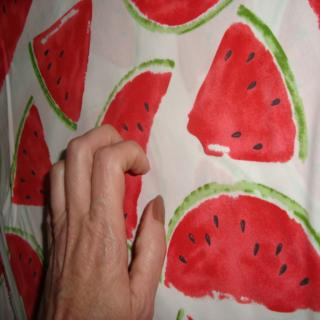Watermelon: (159, 181, 319, 314), (186, 1, 305, 165), (95, 58, 176, 249), (28, 0, 92, 129), (9, 95, 52, 208), (122, 0, 230, 35), (6, 228, 45, 316), (307, 0, 320, 28), (174, 308, 193, 320)
